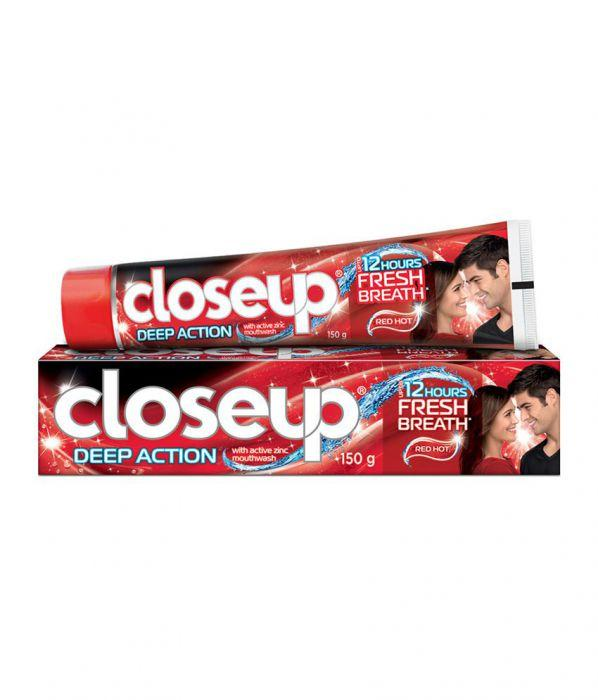CloseUp: (38, 358, 560, 477)
